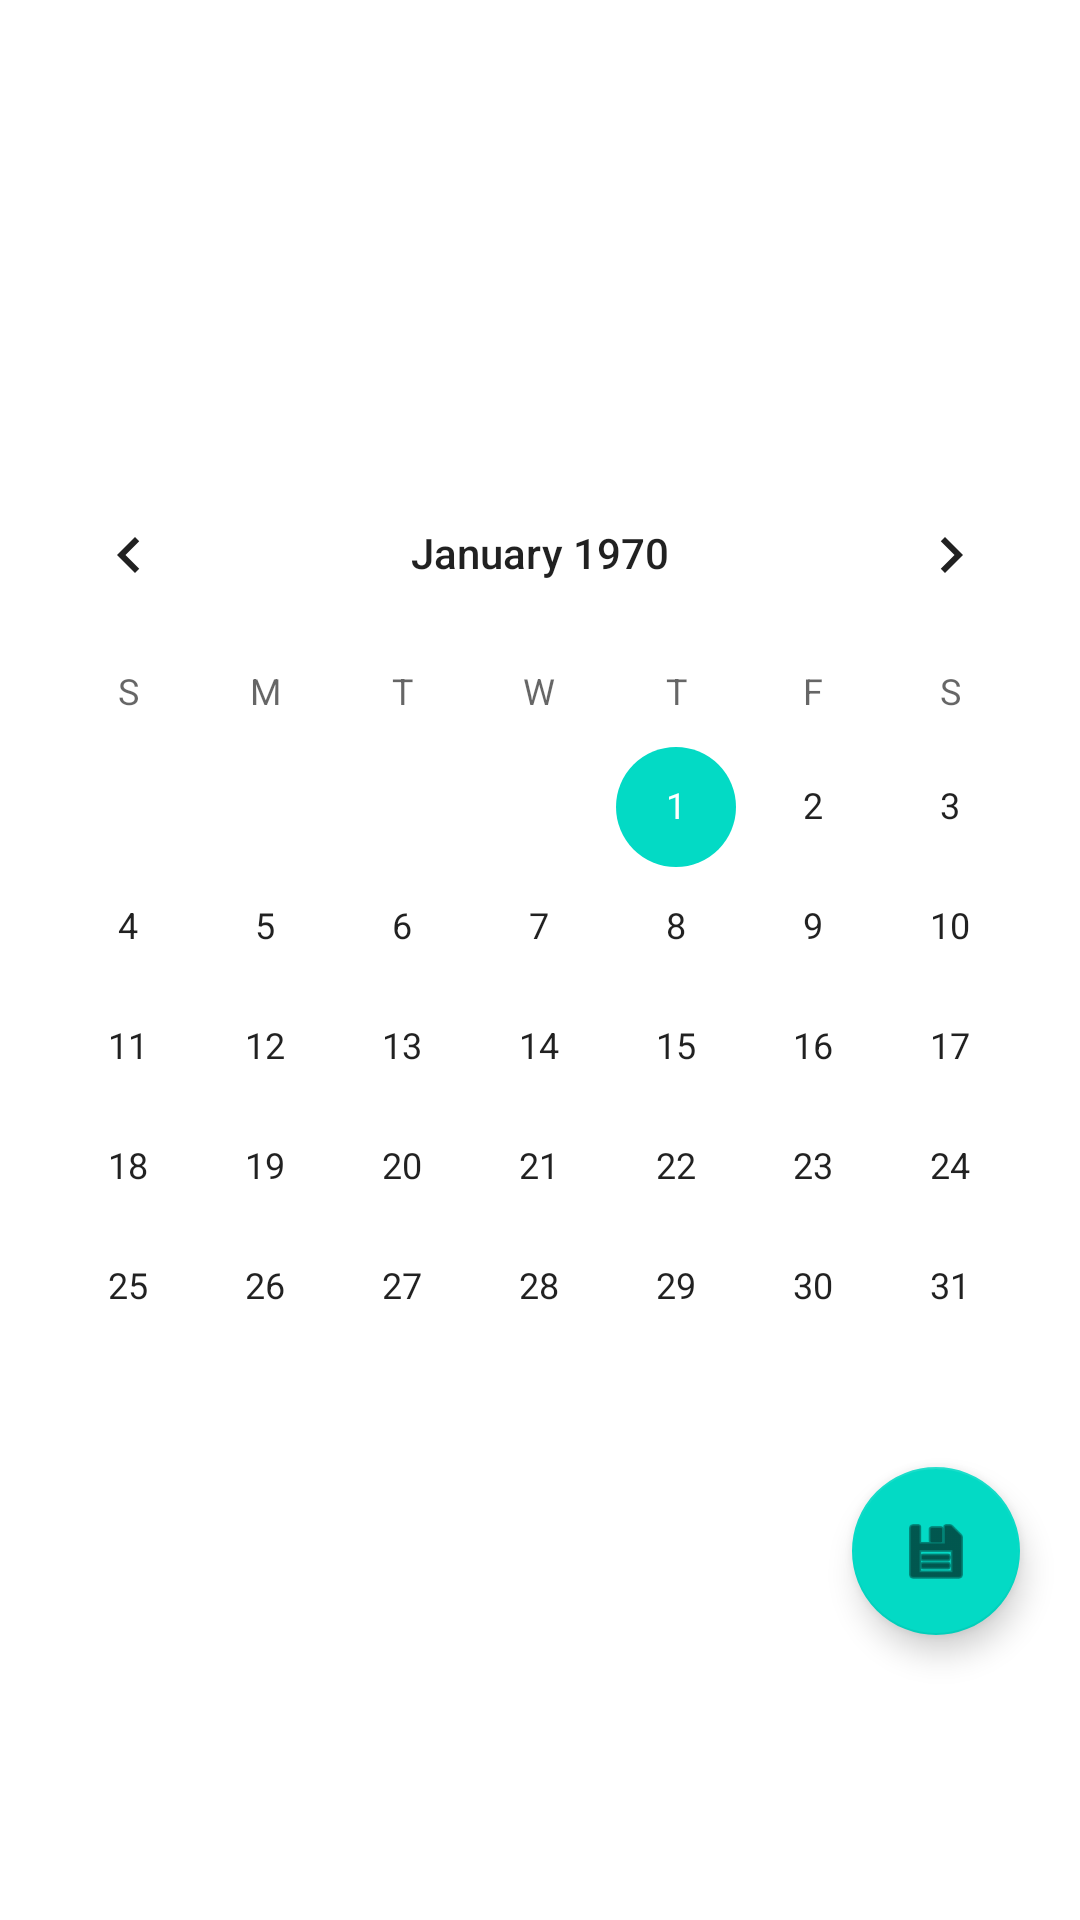

Icon click points for this 1080 x 1920 phone screenshot, format [x,y]:
save: [936,1551]
